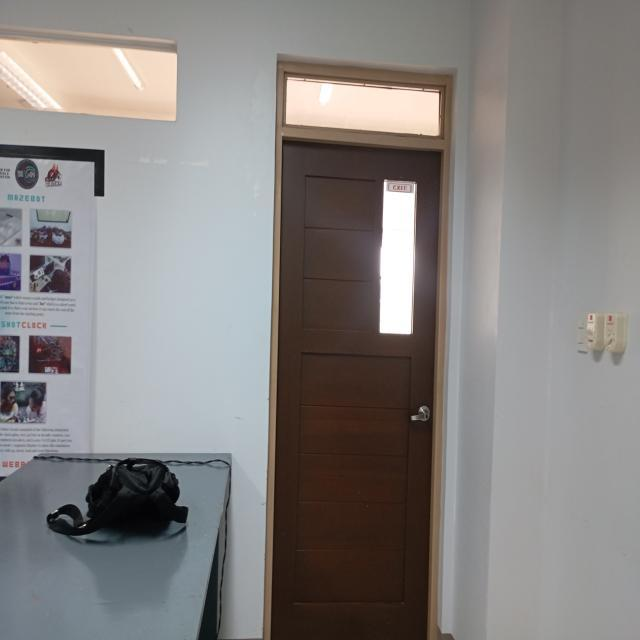door: (260, 48, 454, 640)
